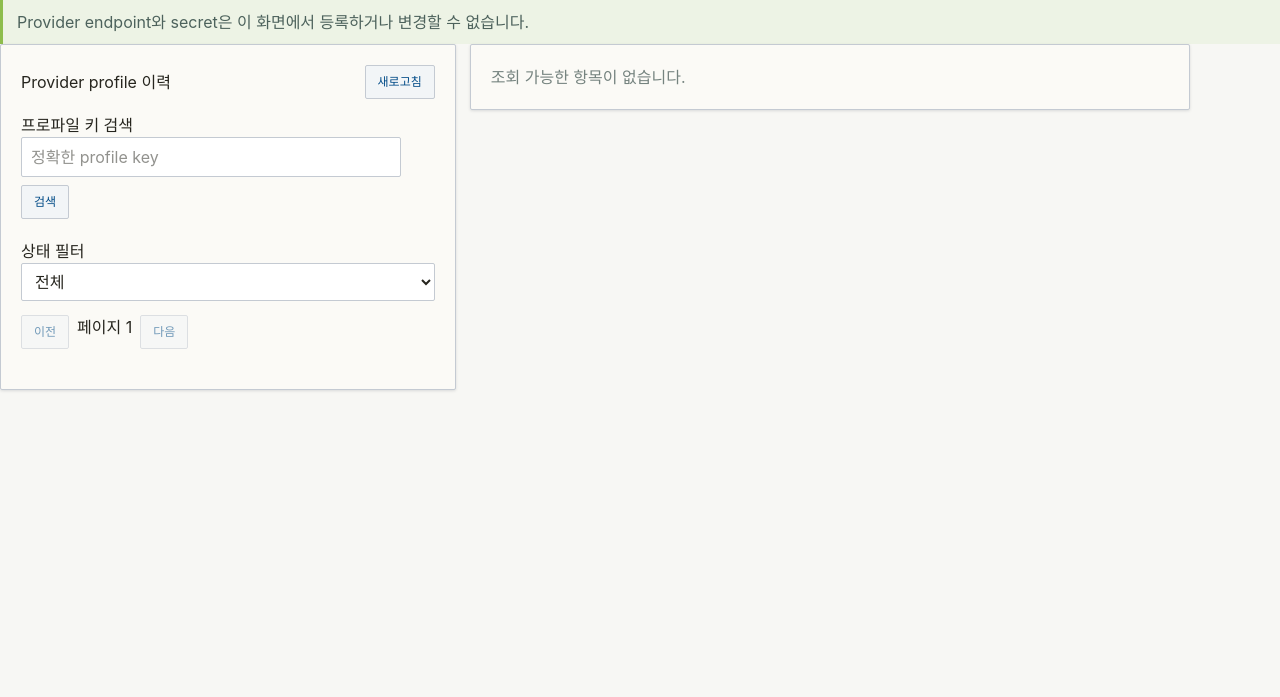
Test case: InferenceProviderProfileAdmin › does not let an older provider load overwrite a newer refresh
The width and height of the screenshot is (1280, 697).
Click the button "새로고침": (400, 82) [365, 65, 435, 99]
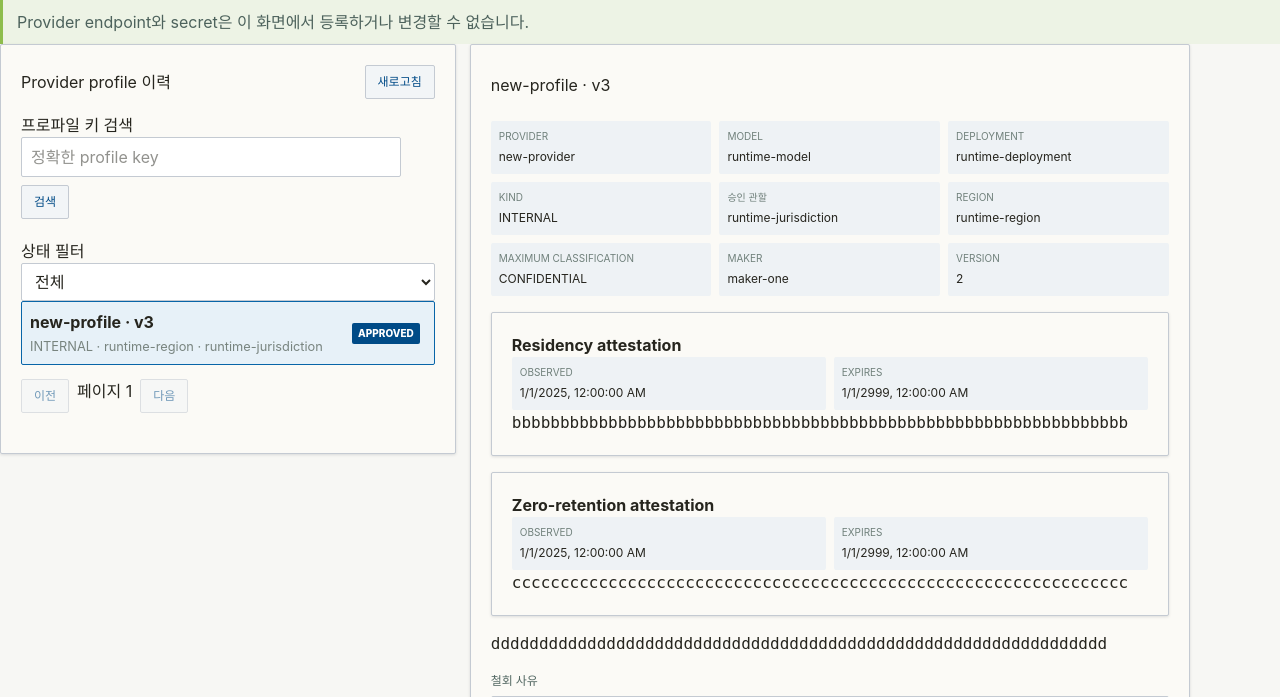
Now the text "new-provider" is shown, box [499, 149, 575, 164]
